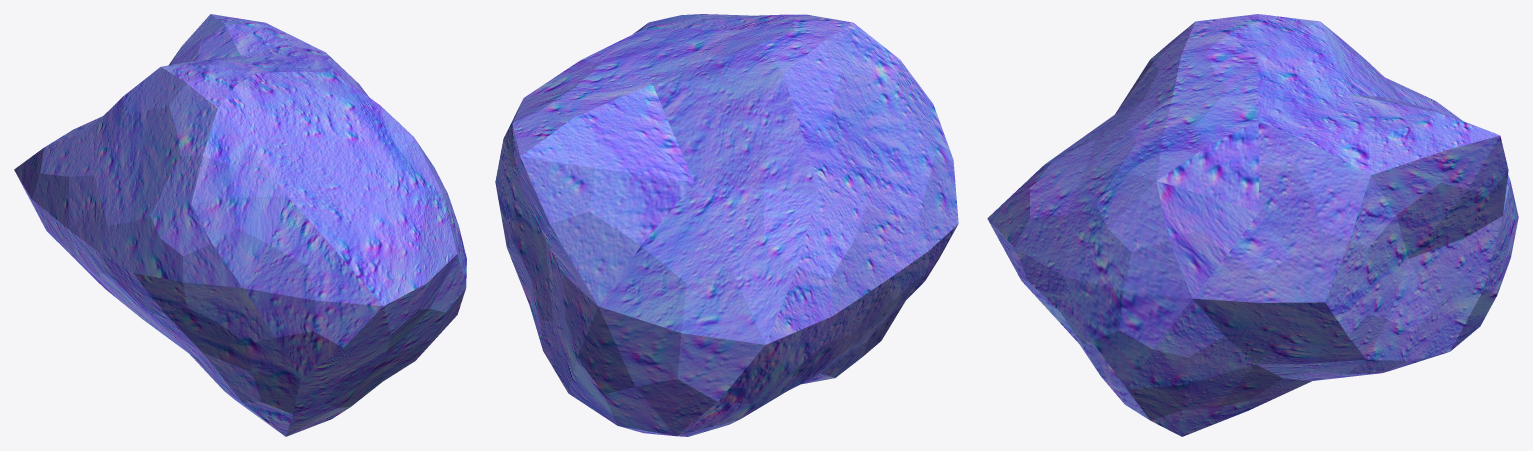
The model's file is smallasteroid9_LOD3.fbx.
The picture shows the model from 3 angles, left to right: view 1: azimuth 30°, elevation 25°; view 2: azimuth 150°, elevation 25°; view 3: azimuth 270°, elevation 25°; orthographic projection. The views are drawn at different scales.
Parts seen in each view (by area): view 1: Icosphere; view 2: Icosphere; view 3: Icosphere.
Part boxes in pixels (x1,y1,x2,y2): Icosphere: (14,14,466,436); Icosphere: (495,14,958,436); Icosphere: (987,14,1518,436).
Size of the model in its own units: 235 by 228 by 306.
